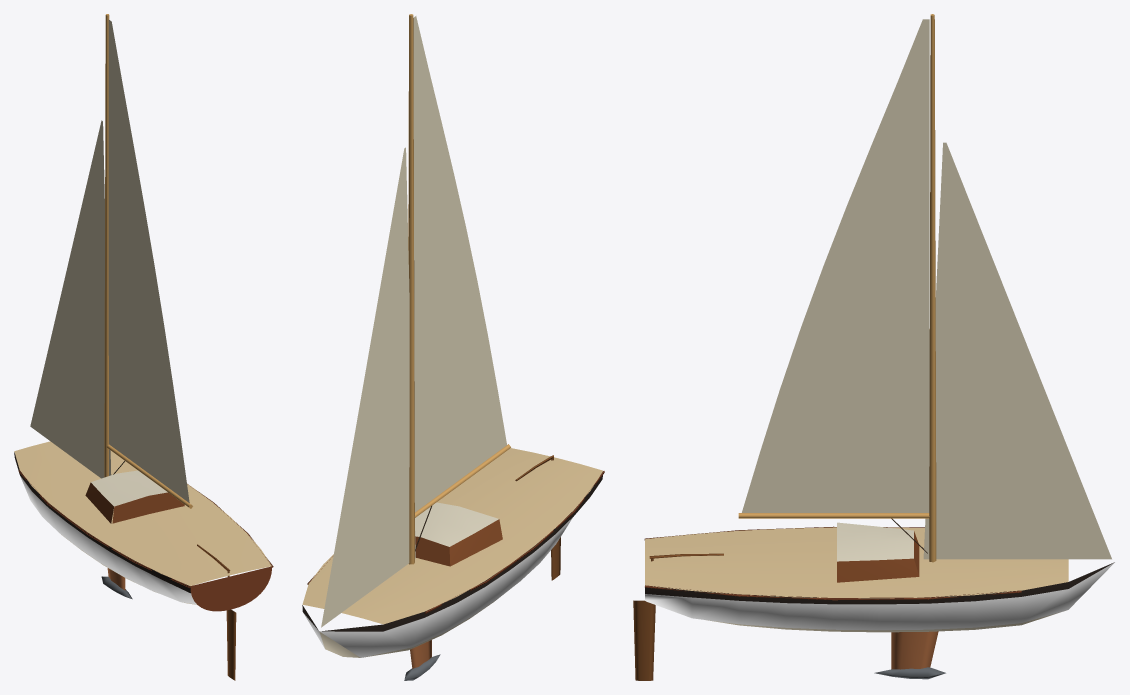
The model's file is keelboat.far.glb.
3 views of the same model, side by side, from view 1: azimuth 30°, elevation 25°; view 2: azimuth 150°, elevation 25°; view 3: azimuth 270°, elevation 25° (orthographic). The views are drawn at different scales.
Parts seen in each view (by area): view 1: hull, sail, jib, mast, rudder, boom; view 2: hull, sail, jib, mast, boom; view 3: sail, jib, hull, mast, rudder, daggerboard, boom.
Part boxes in pixels (x1=…): hull: x1=14, y1=441, x2=273, y2=611; sail: x1=108, y1=19, x2=189, y2=502; jib: x1=30, y1=120, x2=111, y2=478; mast: x1=104, y1=14, x2=109, y2=477; rudder: x1=226, y1=570, x2=236, y2=680; boom: x1=107, y1=444, x2=192, y2=508; hull: x1=302, y1=448, x2=604, y2=657; sail: x1=413, y1=16, x2=506, y2=512; jib: x1=321, y1=147, x2=415, y2=627; mast: x1=408, y1=14, x2=414, y2=564; boom: x1=414, y1=444, x2=510, y2=517; sail: x1=742, y1=19, x2=929, y2=512; jib: x1=923, y1=142, x2=1111, y2=559; hull: x1=644, y1=522, x2=1114, y2=632; mast: x1=929, y1=14, x2=936, y2=562; rudder: x1=633, y1=558, x2=655, y2=680; daggerboard: x1=891, y1=631, x2=938, y2=669; boom: x1=738, y1=513, x2=929, y2=518.
Bounding box in the file's own units: 2.49 × 10.71 × 7.03.
